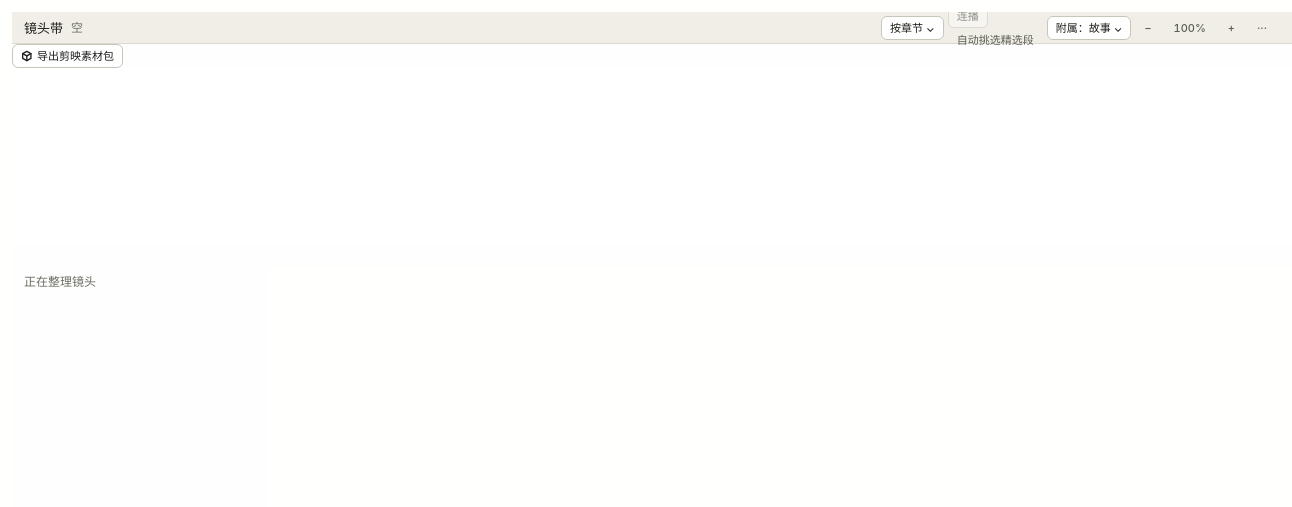
it: 附属带分段控件 › 「模板」展开四选一,「电影感」在树里
Step 1. Click the button "附属：故事 ⌄" → [1089, 28], box [1047,16,1131,40]
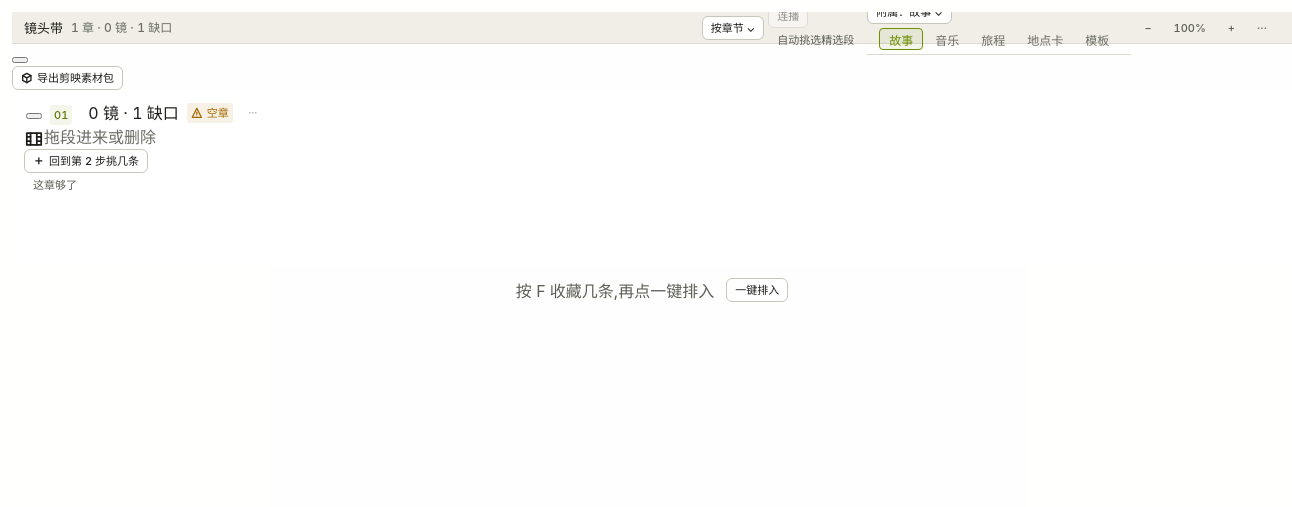
Expected: the element named "镜头带附属视图" is shown, [867,24,1131,55]
Step 2. Click the tab "模板" → [1097, 39], box [1075,28,1119,50]
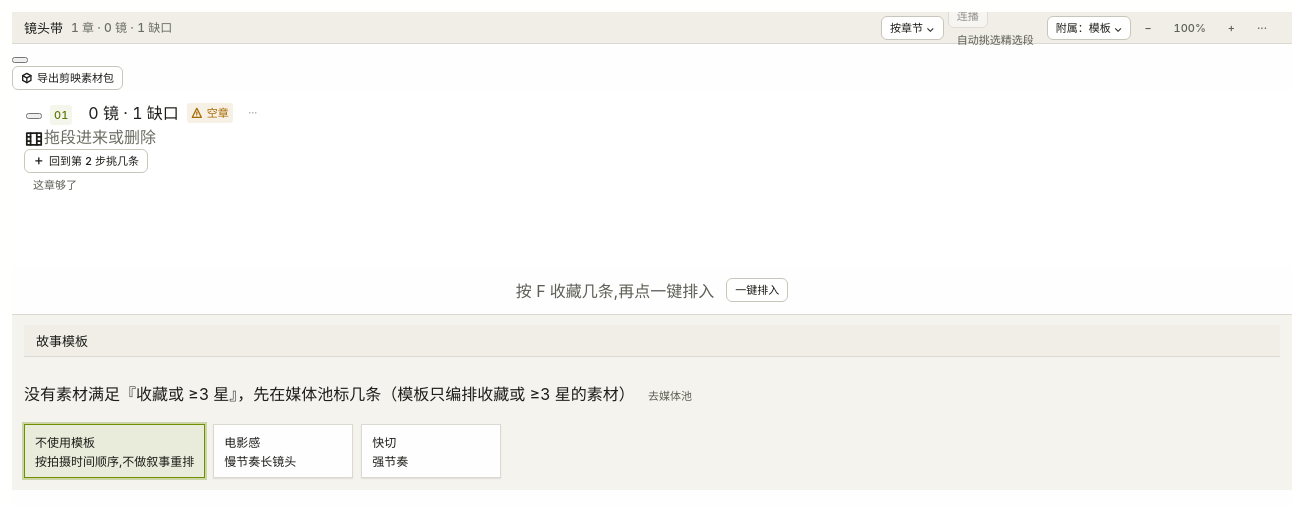
Expected: the text "电影感" is shown, [224,433,260,450]
Expected: the button "不使用模板 按拍摄时间顺序,不做叙事重排" is shown, [24,424,205,478]
